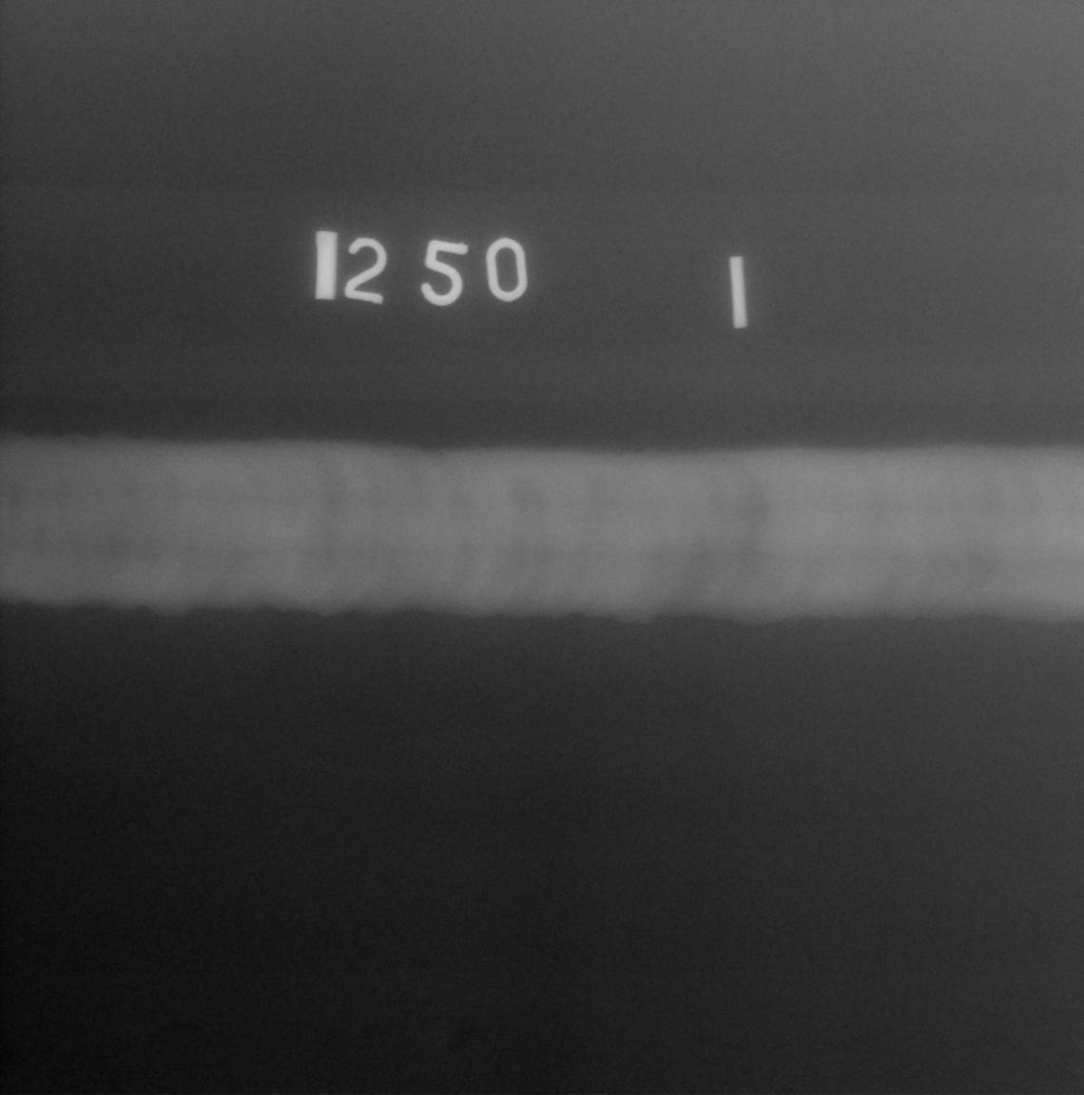Inclusion: (7, 486, 20, 500)
